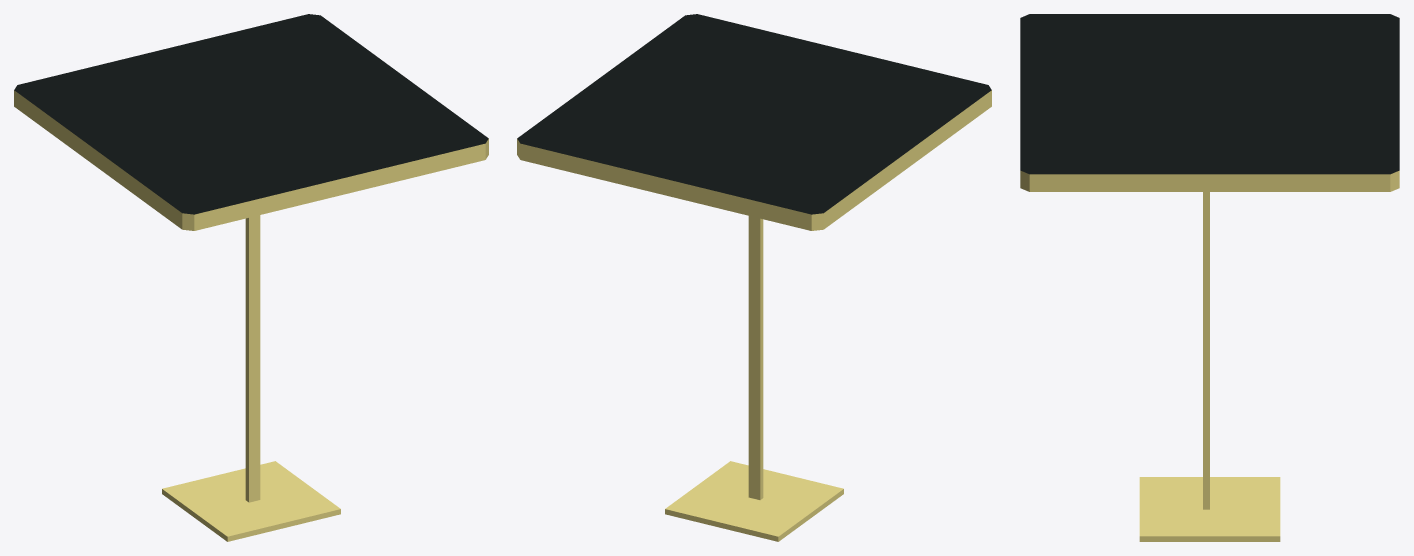
Rendered from table.fbx.
3 views of the same model, side by side, from view 1: azimuth 30°, elevation 25°; view 2: azimuth 150°, elevation 25°; view 3: azimuth 270°, elevation 25° (orthographic). The views are drawn at different scales.
Visible parts, largest first — view 1: polySurface17, pCube17, polySurface18; view 2: polySurface17, pCube17, polySurface18; view 3: polySurface17, pCube17, polySurface18.
Boxes of the visible parts, bbox=[...] form: polySurface17: bbox=[14, 14, 488, 214]; pCube17: bbox=[162, 215, 340, 541]; polySurface18: bbox=[14, 90, 488, 230]; polySurface17: bbox=[517, 14, 991, 214]; pCube17: bbox=[665, 216, 843, 541]; polySurface18: bbox=[517, 90, 991, 230]; polySurface17: bbox=[1020, 14, 1399, 174]; pCube17: bbox=[1139, 192, 1280, 541]; polySurface18: bbox=[1020, 170, 1399, 191].
Size of the model in its own units: 86.34 by 105 by 86.34.
